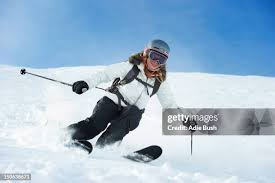skis: (67, 141, 162, 165)
